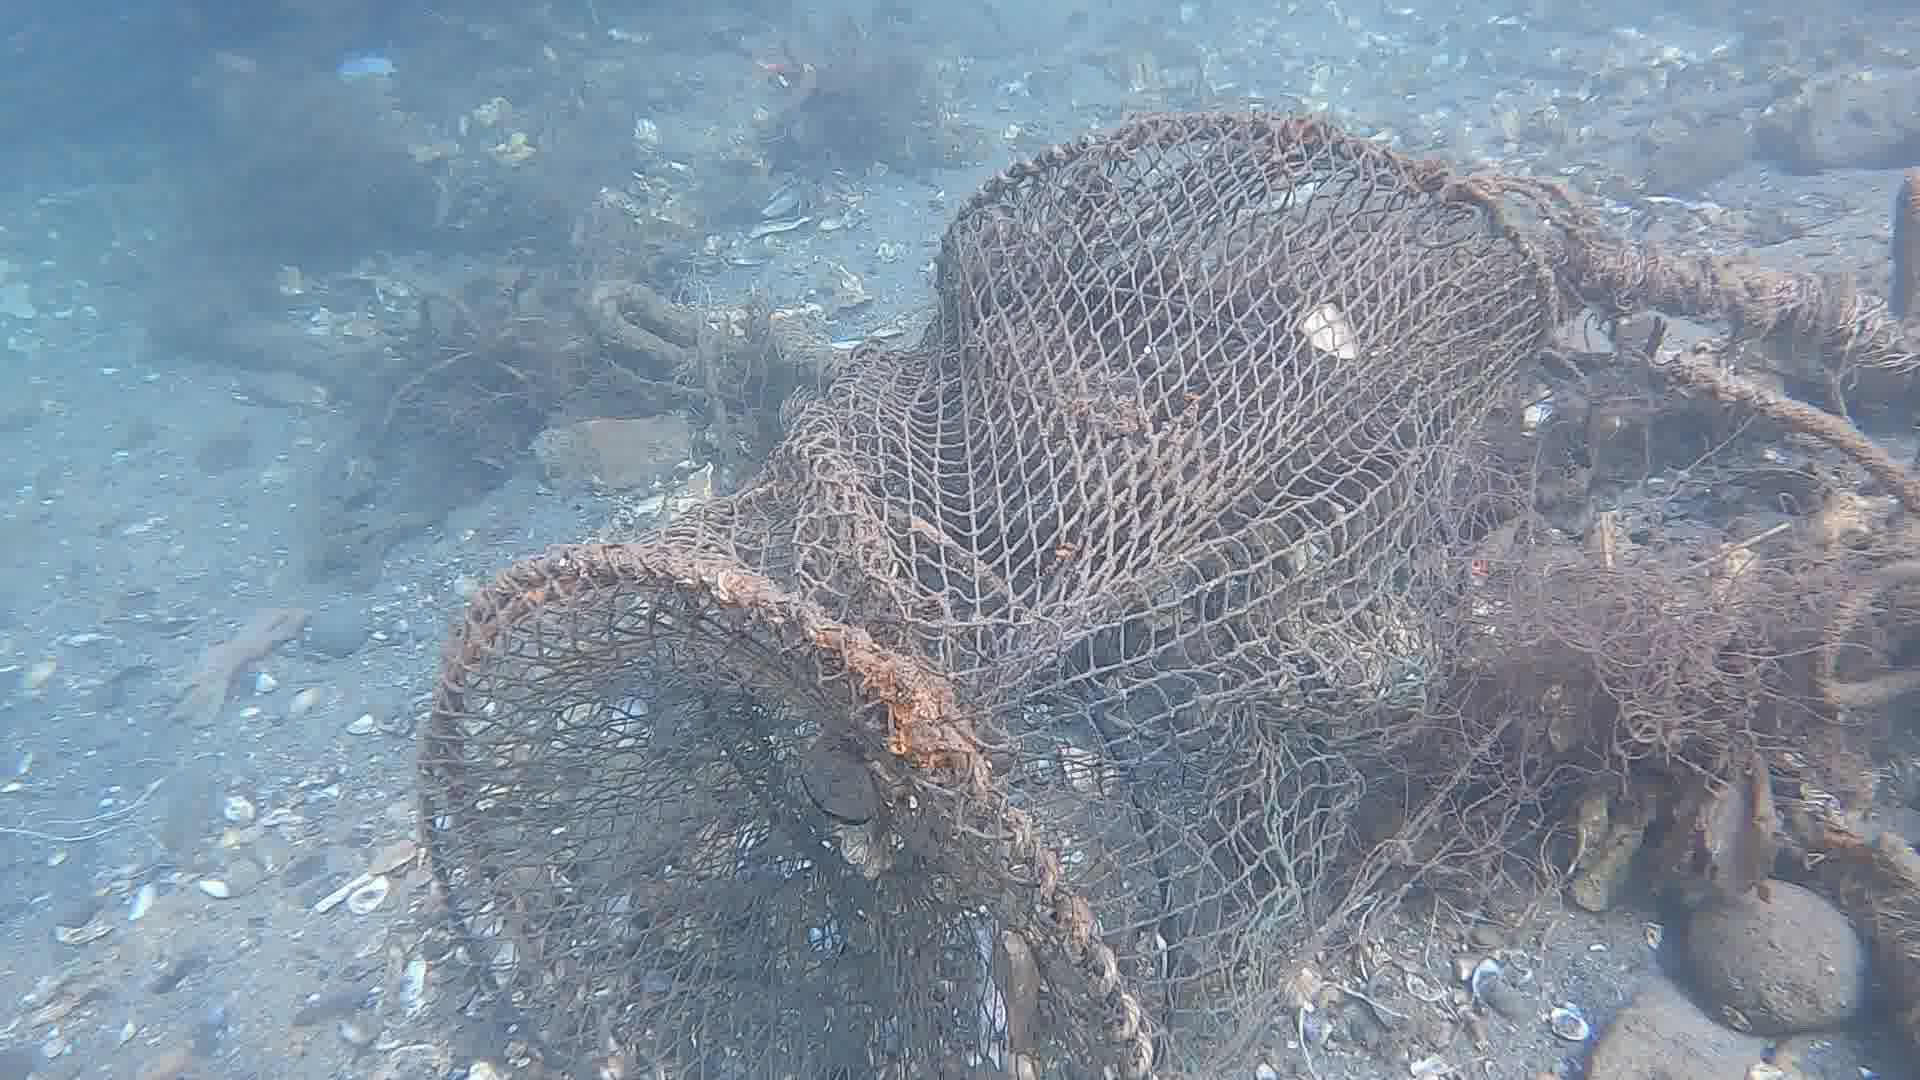spring fish trap: (415, 109, 1548, 1080)
